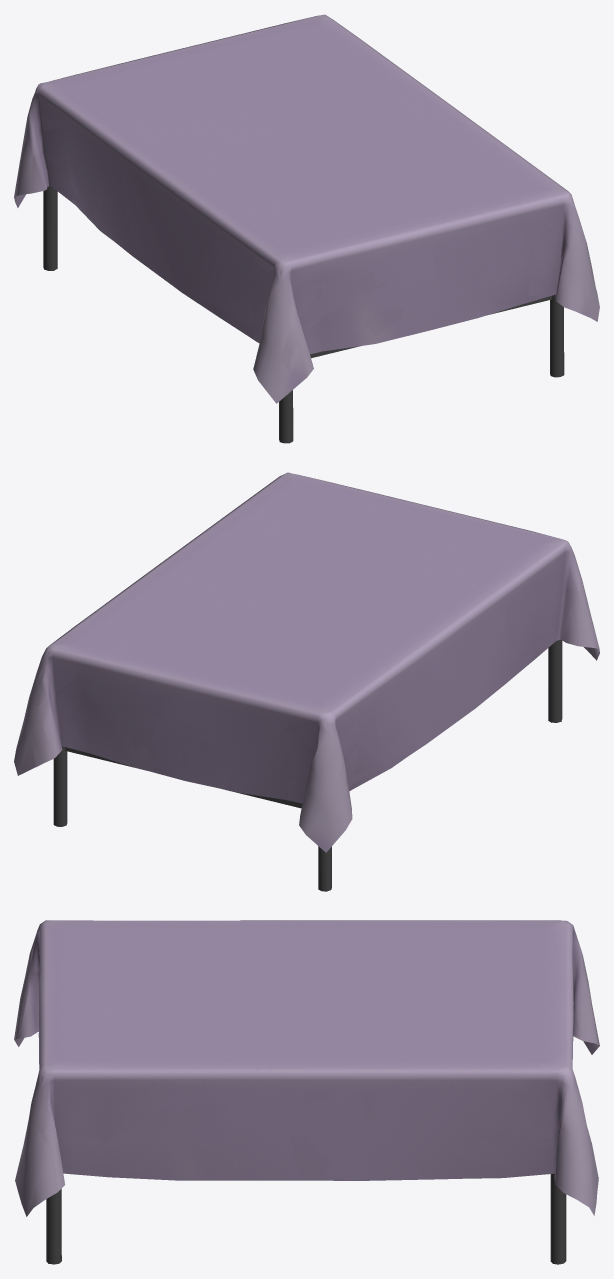
Rendered from pi_tabel01_03_04.gltf.
3 views of the same model, one above another, from view 1: azimuth 30°, elevation 25°; view 2: azimuth 150°, elevation 25°; view 3: azimuth 270°, elevation 25° (orthographic). The views are drawn at different scales.
Parts seen in each view (by area): view 1: um_pi_tabel01_03_04_model_lod2Shape:pi_tabel01_cloth01_01_00, um_pi_tabel01_03_04_model_lod0Shape:pi_tabel01_cloth01_01_00, um_pi_tabel01_03_04_model_lod1Shape:pi_tabel01_cloth01_01_00, um_pi_tabel01_03_04_model_lod0Shape:pi_tabel01_01, um_pi_tabel01_03_04_model_lod2Shape:pi_tabel01_01, um_pi_tabel01_03_04_model_lod1Shape:pi_tabel01_01; view 2: um_pi_tabel01_03_04_model_lod0Shape:pi_tabel01_cloth01_01_00, um_pi_tabel01_03_04_model_lod2Shape:pi_tabel01_cloth01_01_00, um_pi_tabel01_03_04_model_lod1Shape:pi_tabel01_cloth01_01_00, um_pi_tabel01_03_04_model_lod0Shape:pi_tabel01_01, um_pi_tabel01_03_04_model_lod2Shape:pi_tabel01_01, um_pi_tabel01_03_04_model_lod1Shape:pi_tabel01_01; view 3: um_pi_tabel01_03_04_model_lod2Shape:pi_tabel01_cloth01_01_00, um_pi_tabel01_03_04_model_lod0Shape:pi_tabel01_cloth01_01_00, um_pi_tabel01_03_04_model_lod1Shape:pi_tabel01_cloth01_01_00, um_pi_tabel01_03_04_model_lod1Shape:pi_tabel01_01, um_pi_tabel01_03_04_model_lod2Shape:pi_tabel01_01, um_pi_tabel01_03_04_model_lod0Shape:pi_tabel01_01.
Boxes of the visible parts, bbox=[...] form: um_pi_tabel01_03_04_model_lod2Shape:pi_tabel01_cloth01_01_00: bbox=[14, 14, 599, 403]; um_pi_tabel01_03_04_model_lod0Shape:pi_tabel01_cloth01_01_00: bbox=[14, 16, 595, 403]; um_pi_tabel01_03_04_model_lod1Shape:pi_tabel01_cloth01_01_00: bbox=[23, 17, 588, 351]; um_pi_tabel01_03_04_model_lod0Shape:pi_tabel01_01: bbox=[43, 187, 560, 443]; um_pi_tabel01_03_04_model_lod2Shape:pi_tabel01_01: bbox=[43, 185, 564, 443]; um_pi_tabel01_03_04_model_lod1Shape:pi_tabel01_01: bbox=[43, 187, 563, 441]; um_pi_tabel01_03_04_model_lod0Shape:pi_tabel01_cloth01_01_00: bbox=[14, 472, 599, 852]; um_pi_tabel01_03_04_model_lod2Shape:pi_tabel01_cloth01_01_00: bbox=[14, 472, 599, 852]; um_pi_tabel01_03_04_model_lod1Shape:pi_tabel01_cloth01_01_00: bbox=[37, 478, 595, 829]; um_pi_tabel01_03_04_model_lod0Shape:pi_tabel01_01: bbox=[54, 639, 562, 891]; um_pi_tabel01_03_04_model_lod2Shape:pi_tabel01_01: bbox=[55, 640, 561, 891]; um_pi_tabel01_03_04_model_lod1Shape:pi_tabel01_01: bbox=[53, 652, 556, 890]; um_pi_tabel01_03_04_model_lod2Shape:pi_tabel01_cloth01_01_00: bbox=[14, 920, 599, 1216]; um_pi_tabel01_03_04_model_lod0Shape:pi_tabel01_cloth01_01_00: bbox=[14, 920, 599, 1213]; um_pi_tabel01_03_04_model_lod1Shape:pi_tabel01_cloth01_01_00: bbox=[28, 920, 599, 1198]; um_pi_tabel01_03_04_model_lod1Shape:pi_tabel01_01: bbox=[46, 1174, 565, 1264]; um_pi_tabel01_03_04_model_lod2Shape:pi_tabel01_01: bbox=[47, 1173, 566, 1264]; um_pi_tabel01_03_04_model_lod0Shape:pi_tabel01_01: bbox=[46, 1174, 565, 1264].
Bounding box in the file's own units: 1.5 × 0.7608 × 2.06.
2 materials, 2 textured.
